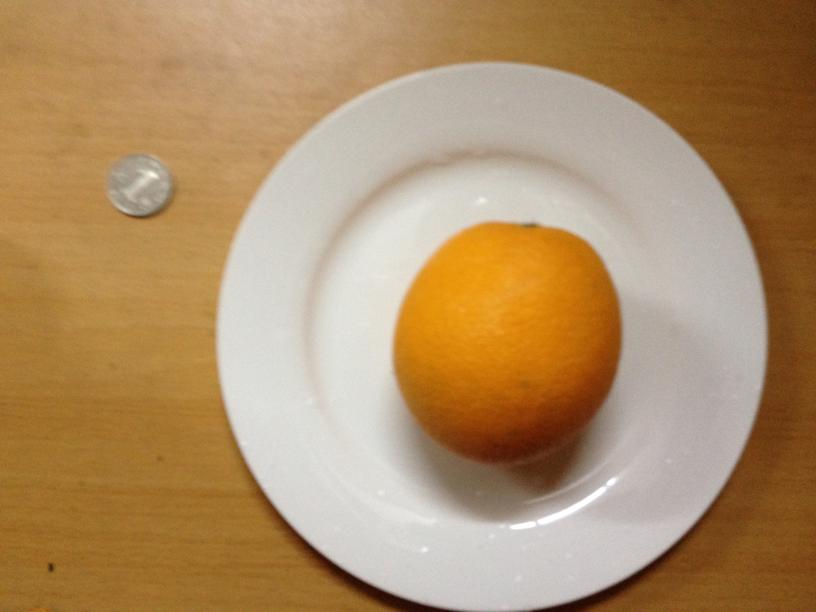coin: (105, 153, 172, 219)
orange: (390, 214, 620, 467)
